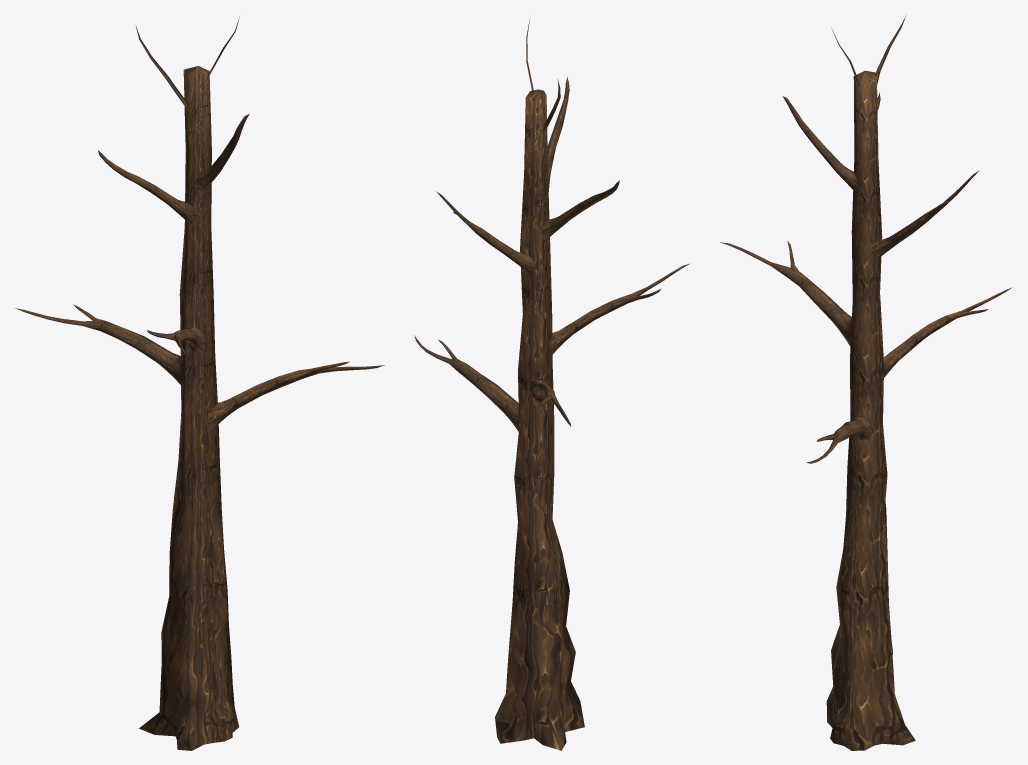
The model's file is DeadTree5.fbx.
The picture shows the model from 3 angles, left to right: view 1: azimuth 30°, elevation 25°; view 2: azimuth 150°, elevation 25°; view 3: azimuth 270°, elevation 25°; orthographic projection. The views are drawn at different scales.
Parts seen in each view (by area): view 1: tree2_0; view 2: tree2_0; view 3: tree2_0.
Boxes of the visible parts, x1=… form: tree2_0: x1=15, y1=16, x2=384, y2=750; tree2_0: x1=414, y1=18, x2=689, y2=750; tree2_0: x1=720, y1=15, x2=1012, y2=750.
Bounding box in the file's own units: 191 × 494 × 183.
Materials: 1 (1 with a texture image).
